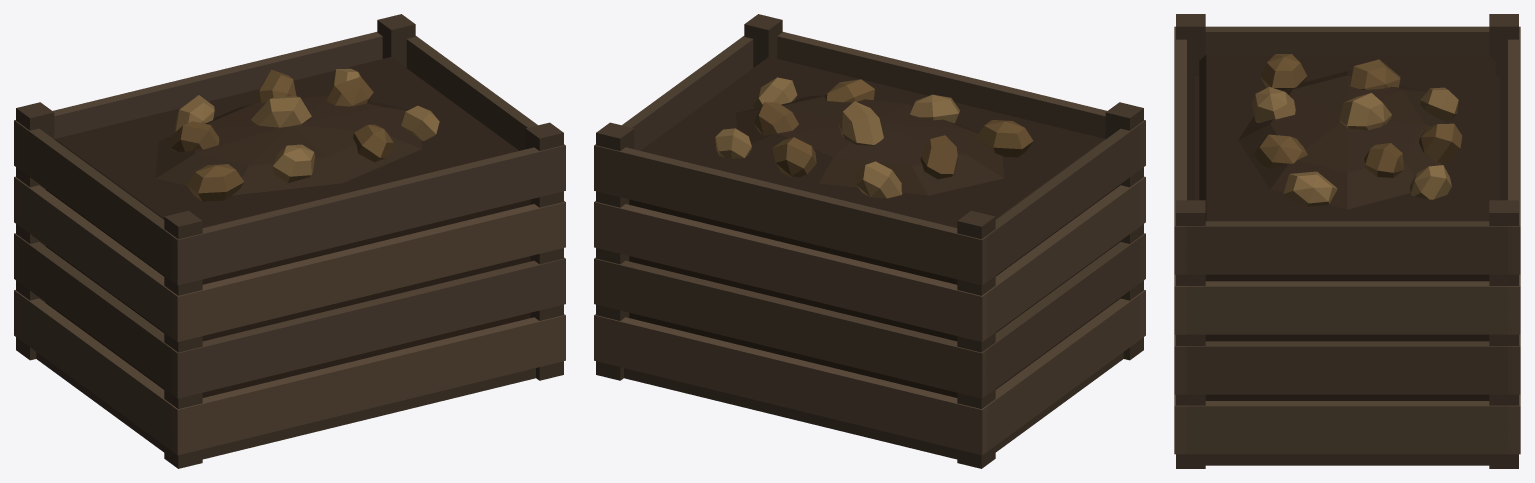
Rendered from prop_crate_deep.glb.
The picture shows the model from 3 angles, left to right: view 1: azimuth 30°, elevation 25°; view 2: azimuth 150°, elevation 25°; view 3: azimuth 270°, elevation 25°; orthographic projection. The views are drawn at different scales.
Visible parts, largest first — view 1: prop_crate_deep; view 2: prop_crate_deep; view 3: prop_crate_deep.
Part boxes in pixels (bbox=[...]): prop_crate_deep: bbox=[14, 14, 565, 468]; prop_crate_deep: bbox=[594, 14, 1145, 468]; prop_crate_deep: bbox=[1174, 14, 1520, 468].
Size of the model in its own units: 1.04 by 0.6661 by 0.76.
